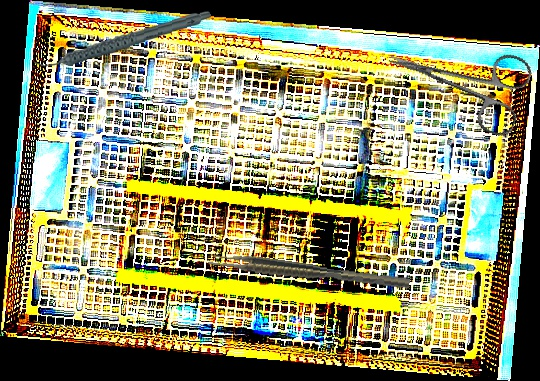Handpiece: (31, 9, 214, 69)
Iris Scissors: (377, 17, 536, 140)
Tissue Forceps: (207, 250, 411, 295)
